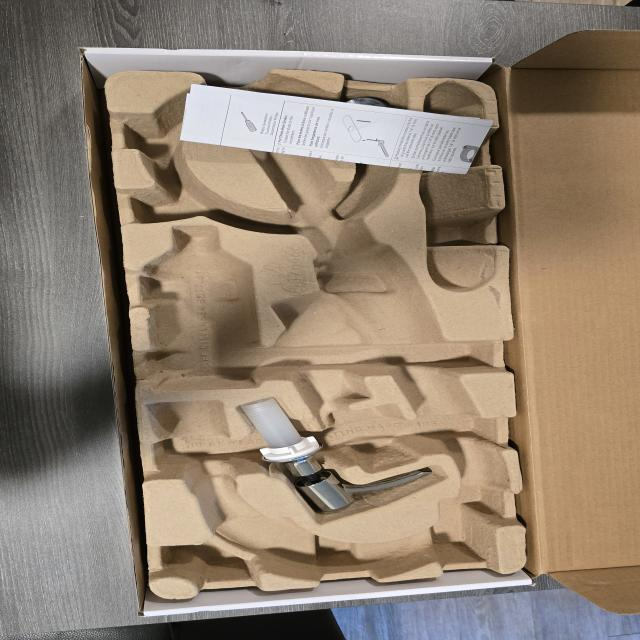1m: (145, 72, 501, 576)
2: (240, 398, 430, 513)
3m: (143, 225, 255, 388)
4m: (417, 81, 499, 291)
5o: (343, 97, 400, 140)
6m: (123, 100, 208, 162)
7m: (131, 169, 249, 225)
8: (178, 83, 498, 175)
